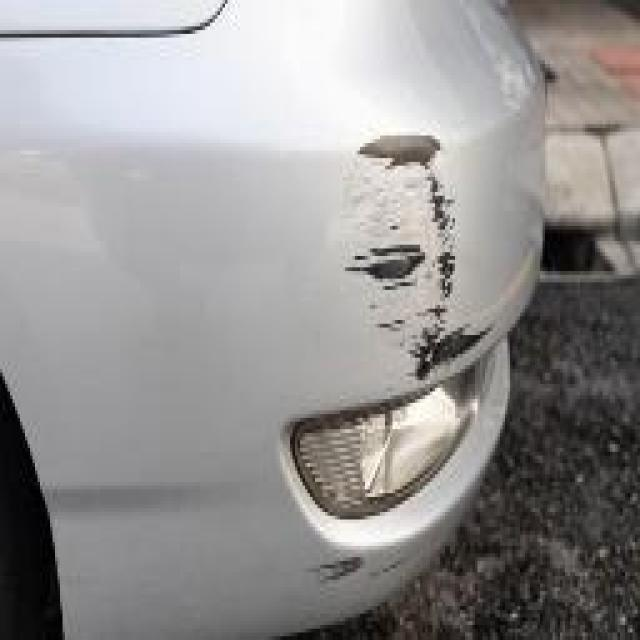Bumper: (212, 87, 528, 380)
